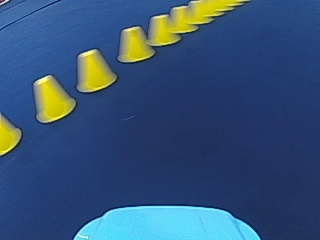cone: (32, 74, 75, 122), (75, 47, 116, 92), (117, 25, 152, 63), (146, 14, 175, 45), (166, 6, 194, 33), (1, 114, 20, 153), (184, 1, 207, 25)
